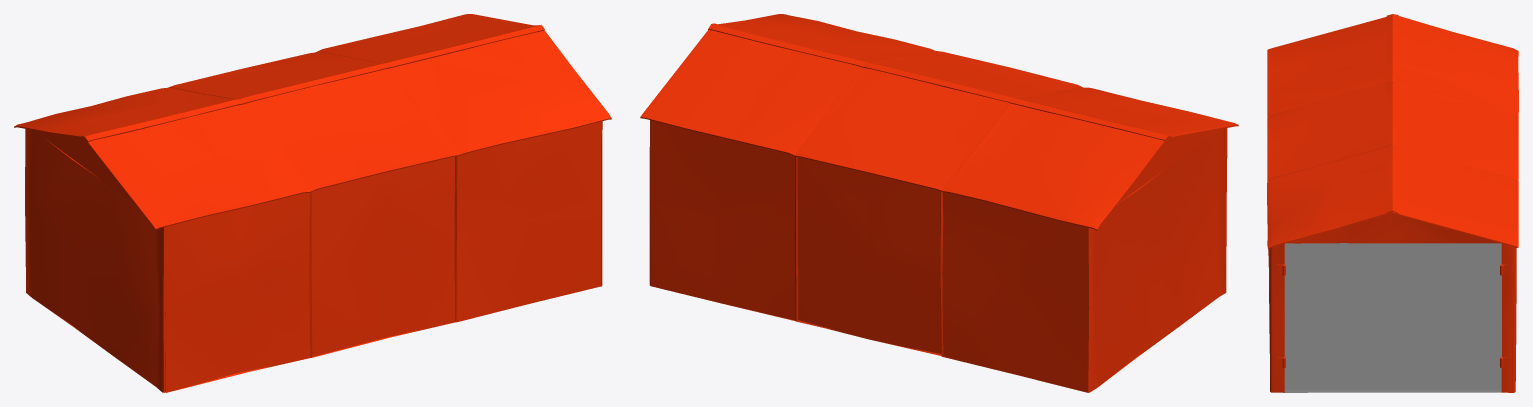
Rendered from Garage.fbx.
3 views of the same model, side by side, from view 1: azimuth 30°, elevation 25°; view 2: azimuth 150°, elevation 25°; view 3: azimuth 270°, elevation 25° (orthographic). The views are drawn at different scales.
Visible parts, largest first — view 1: Garage; view 2: Garage; view 3: Garage.
Part boxes in pixels (x1=…): Garage: x1=14, y1=14, x2=611, y2=392; Garage: x1=640, y1=14, x2=1238, y2=392; Garage: x1=1267, y1=14, x2=1518, y2=392.
Size of the model in its own units: 1140 by 499 by 615.
